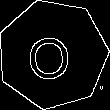O_N: (29, 27, 76, 81)
